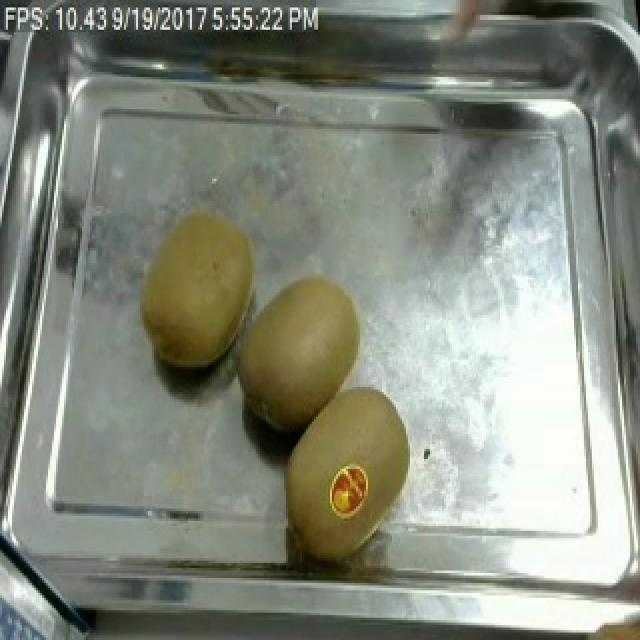Fruit: (222, 268, 374, 441), (130, 201, 266, 382)
